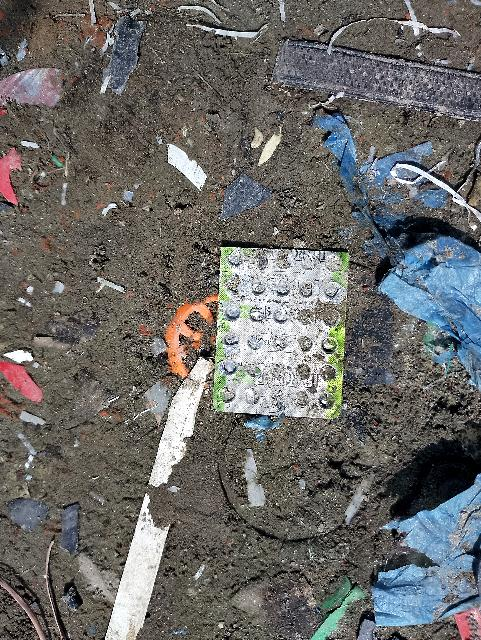medicine: (220, 236, 351, 418)
